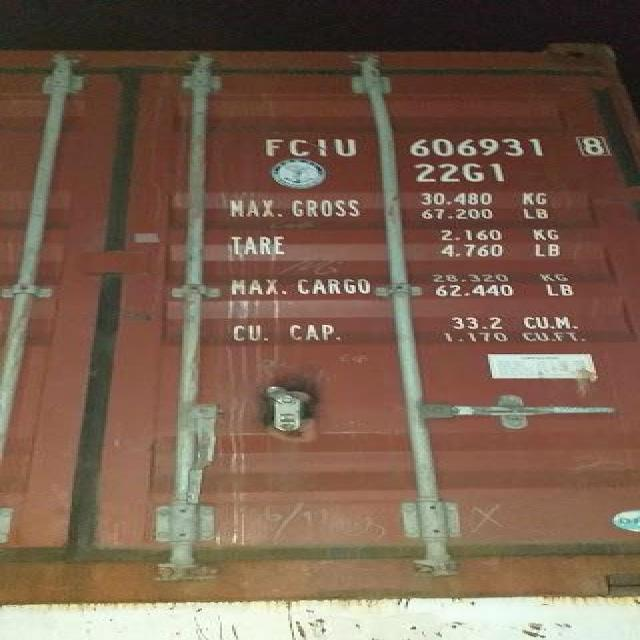ISO: (415, 164, 508, 184)
container_number: (260, 126, 610, 167)
